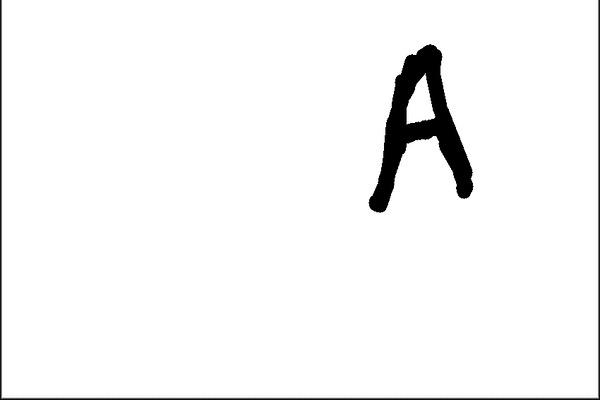A: (354, 40, 478, 217)
